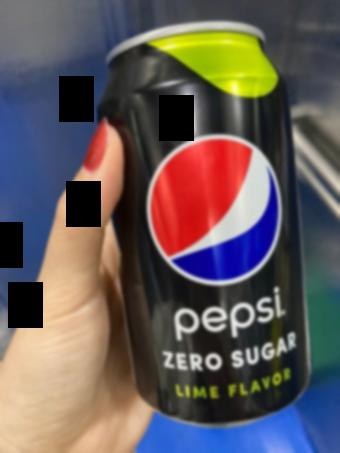pepsi_zero: (84, 38, 305, 419)
